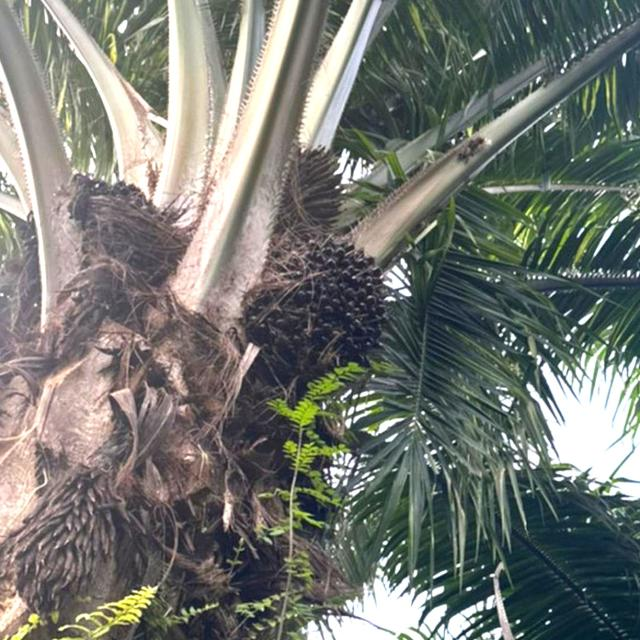almost: (242, 227, 392, 388)
